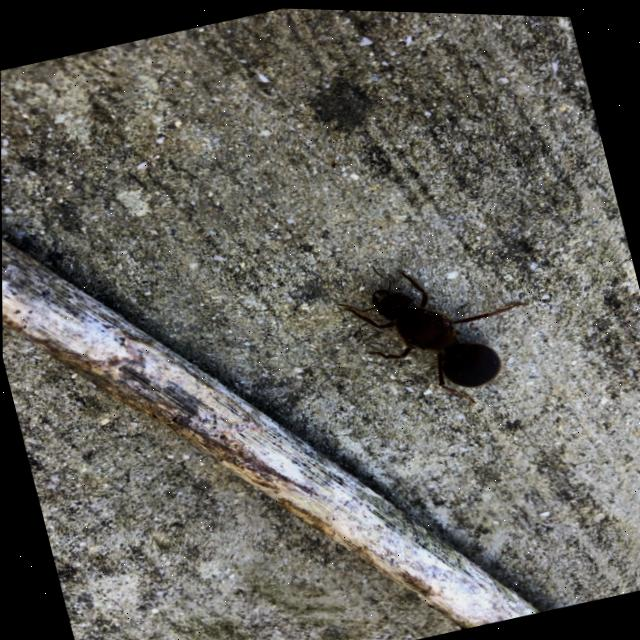Alive-Female-Dealate: (332, 239, 542, 426)
